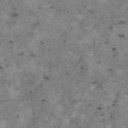oxide scale of temperature system: (64, 19, 126, 110), (0, 40, 44, 70), (10, 2, 19, 18), (42, 75, 50, 80), (41, 98, 46, 102)
